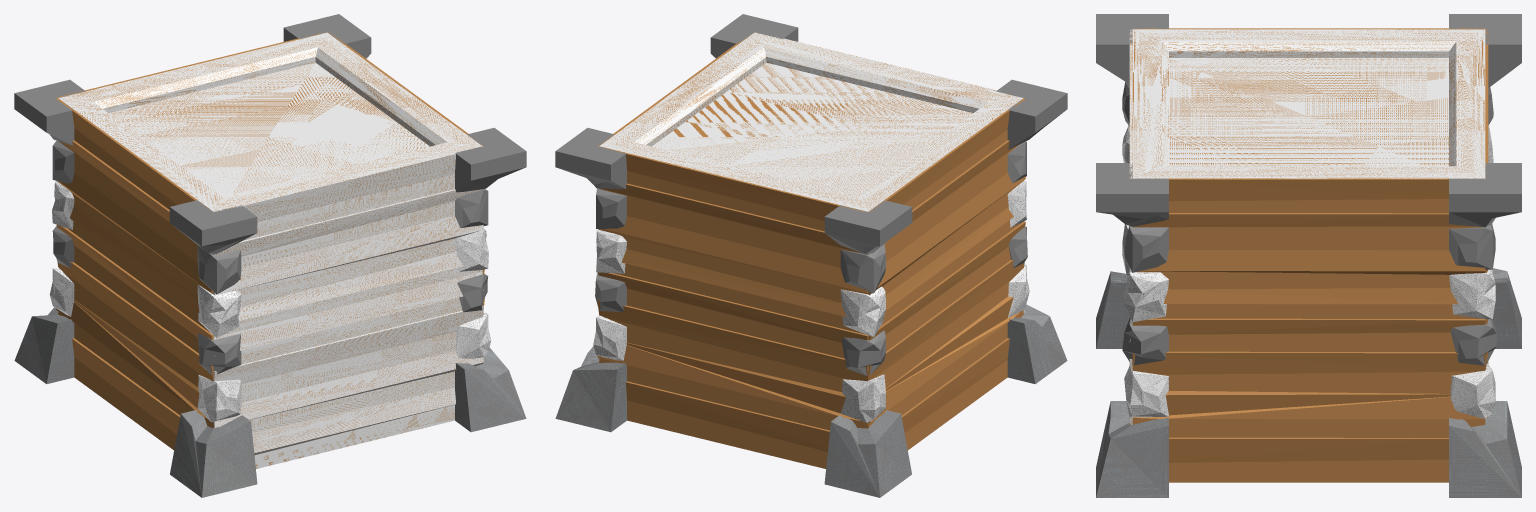
Rendered from Fund5.fbx.
3 views of the same model, side by side, from view 1: azimuth 30°, elevation 25°; view 2: azimuth 150°, elevation 25°; view 3: azimuth 270°, elevation 25° (orthographic). The views are drawn at different scales.
Visible parts, largest first — view 1: WallWood1, WallWood2_2, G_19_1, G_19_4, G_19_3, A1, A2, A3, A4, C1, Component_1_1, B1 (+9 smaller); view 2: WallWood2_3, WallWood1, WallWood2_2, G_19_3, G_19_2, G_19_1, A3, A4, A1, A2, C3, Component_1_3 (+10 smaller); view 3: WallWood2_1, WallWood1, G_19_4, G_19_2, A4, A2, A3, A1, G_19_1, C4, C2, Component_1_2 (+8 smaller).
Boxes of the visible parts, left/top/right/bottom form: WallWood1: left=58, top=32, right=483, bottom=468; WallWood2_2: left=56, top=98, right=213, bottom=450; G_19_1: left=170, top=410, right=257, bottom=497; G_19_4: left=455, top=347, right=526, bottom=432; G_19_3: left=14, top=307, right=74, bottom=384; A1: left=169, top=200, right=257, bottom=253; A2: left=455, top=127, right=526, bottom=192; A3: left=14, top=79, right=85, bottom=145; A4: left=283, top=14, right=371, bottom=58; C1: left=197, top=284, right=241, bottom=337; Component_1_1: left=197, top=375, right=241, bottom=422; B1: left=197, top=245, right=241, bottom=294; WallWood2_3: left=598, top=146, right=868, bottom=468; WallWood1: left=599, top=32, right=1024, bottom=312; WallWood2_2: left=868, top=98, right=1025, bottom=450; G_19_3: left=824, top=410, right=911, bottom=497; G_19_2: left=555, top=346, right=626, bottom=432; G_19_1: left=1007, top=305, right=1067, bottom=384; A3: left=824, top=200, right=912, bottom=254; A4: left=555, top=127, right=626, bottom=189; A1: left=996, top=79, right=1067, bottom=149; A2: left=710, top=14, right=798, bottom=58; C3: left=840, top=286, right=885, bottom=336; Component_1_3: left=840, top=374, right=885, bottom=422; WallWood2_1: left=1132, top=178, right=1485, bottom=482; WallWood1: left=1129, top=29, right=1485, bottom=424; G_19_4: left=1096, top=401, right=1168, bottom=497; G_19_2: left=1449, top=401, right=1521, bottom=497; A4: left=1449, top=163, right=1521, bottom=227; A2: left=1096, top=163, right=1168, bottom=226; A3: left=1449, top=14, right=1521, bottom=87; A1: left=1096, top=14, right=1168, bottom=83; G_19_1: left=1096, top=271, right=1129, bottom=348; C4: left=1449, top=269, right=1495, bottom=319; C2: left=1124, top=271, right=1168, bottom=322; Component_1_2: left=1124, top=365, right=1168, bottom=417.
Size of the model in its own units: 2920 by 2300 by 2920.
